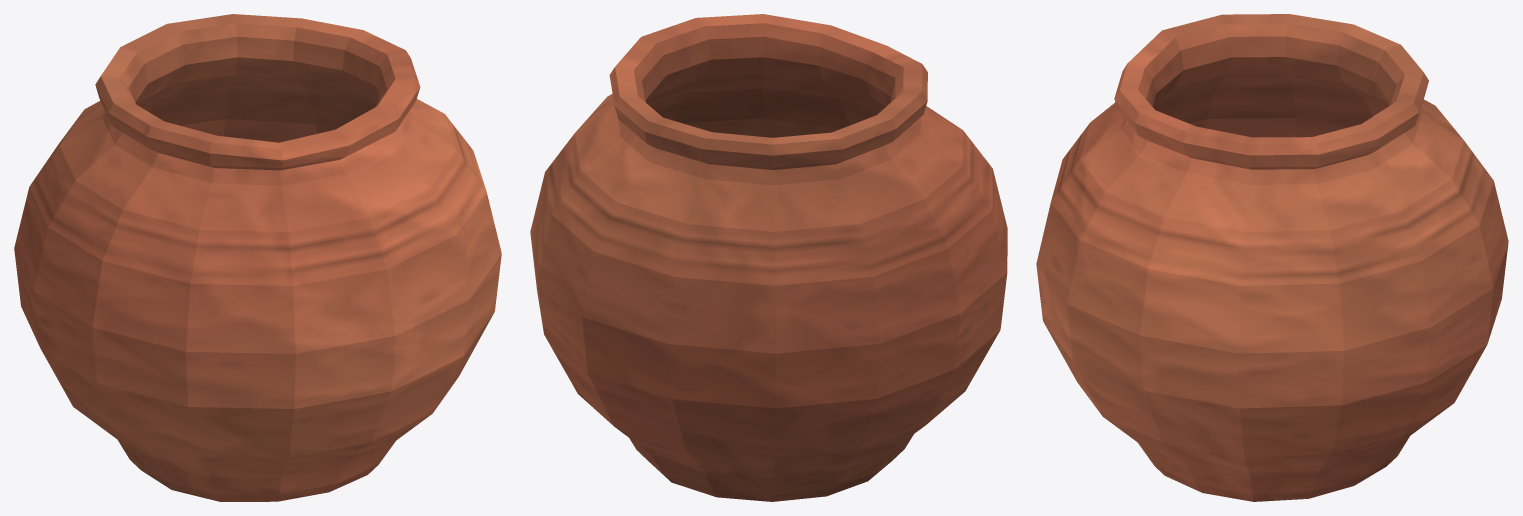
File: Pote-de-Barro.glb
The picture shows the model from 3 angles, left to right: view 1: azimuth 30°, elevation 25°; view 2: azimuth 150°, elevation 25°; view 3: azimuth 270°, elevation 25°; orthographic projection.
Visible parts, largest first — view 1: Pote de barro; view 2: Pote de barro; view 3: Pote de barro.
Part boxes in pixels (x1,y1,x2,y2): Pote de barro: [14, 14, 501, 501]; Pote de barro: [530, 14, 1007, 501]; Pote de barro: [1036, 14, 1508, 501].
Bounding box in the file's own units: 0.351 × 0.2974 × 0.3426.
Materials: 1 (1 with a texture image).
